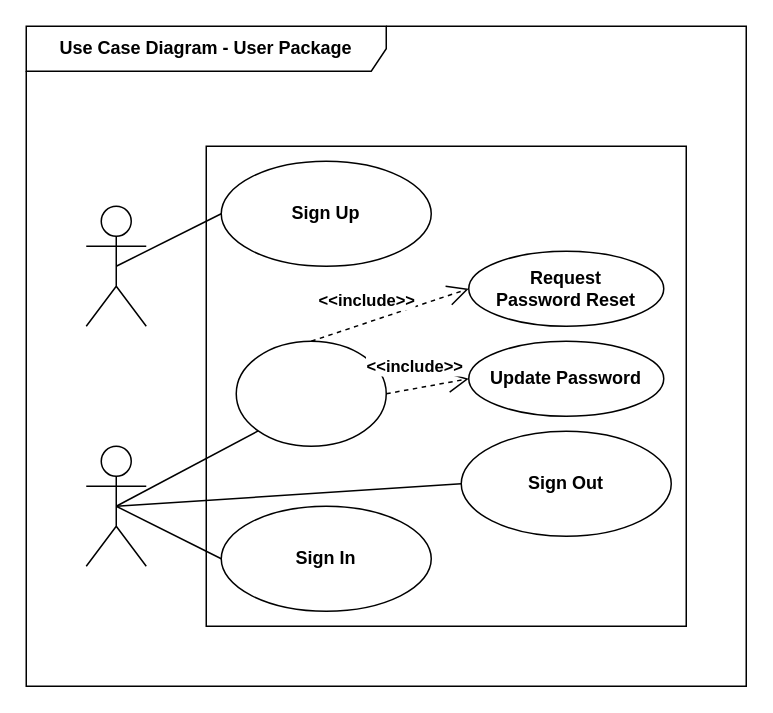
This 773x713 diagram has some shape labels left out. The shapes that lost their labels are listed below. From the top down, each one's centre as x and y in pixels, then its label:
At point (115, 265): "Visitor".
At point (310, 393): "Reset Password".
At point (115, 505): "Contributor".
